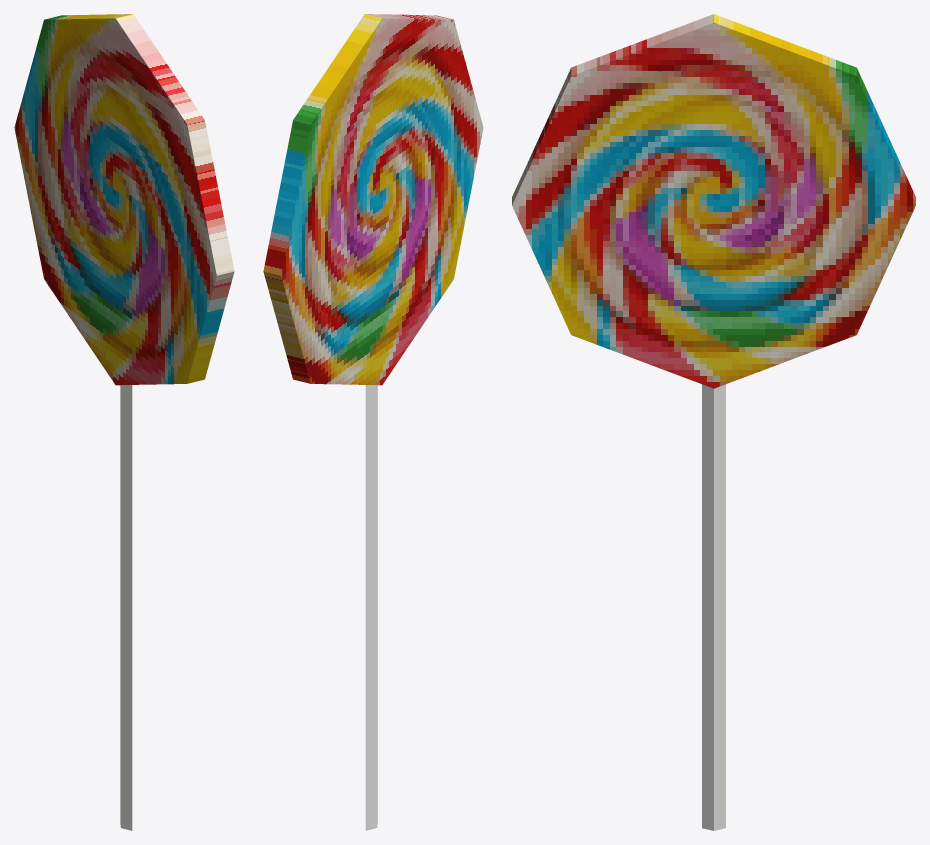
Rendered from LolipopGLB.glb.
The picture shows the model from 3 angles, left to right: view 1: azimuth 30°, elevation 25°; view 2: azimuth 150°, elevation 25°; view 3: azimuth 270°, elevation 25°; orthographic projection.
Parts seen in each view (by area): view 1: Circle; view 2: Circle; view 3: Circle.
Boxes of the visible parts, x1,y1,x2,y2 form: Circle: (14, 14, 234, 830); Circle: (263, 14, 483, 830); Circle: (512, 14, 915, 830).
Size of the model in its own units: 0.1133 by 4.95 by 2.24.
Materials: 1 (1 with a texture image).
